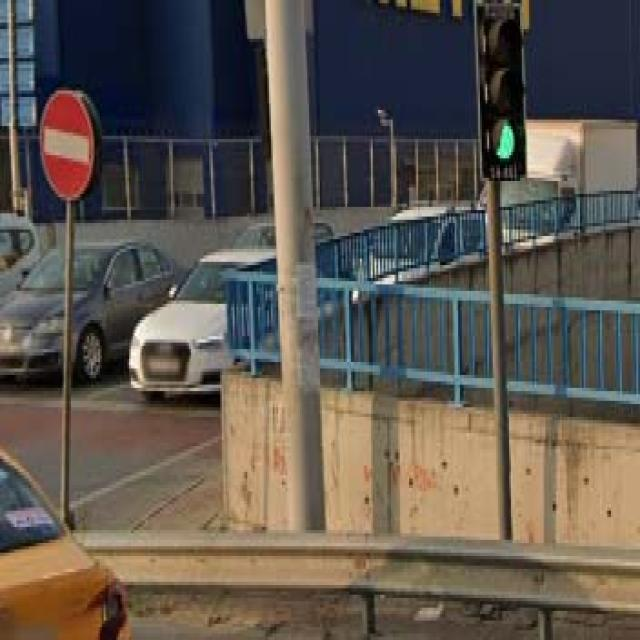girisyok: (40, 88, 95, 200)
yesil: (475, 3, 527, 184)
